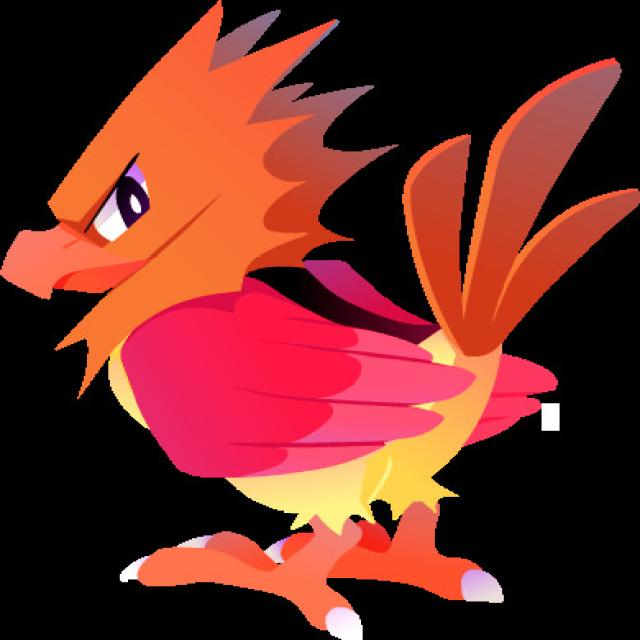Spearow: (0, 3, 640, 640)
